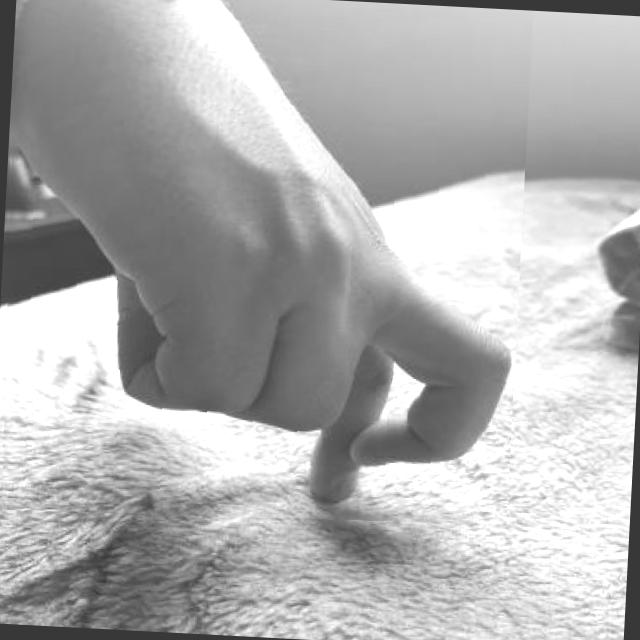P: (0, 0, 533, 536)
